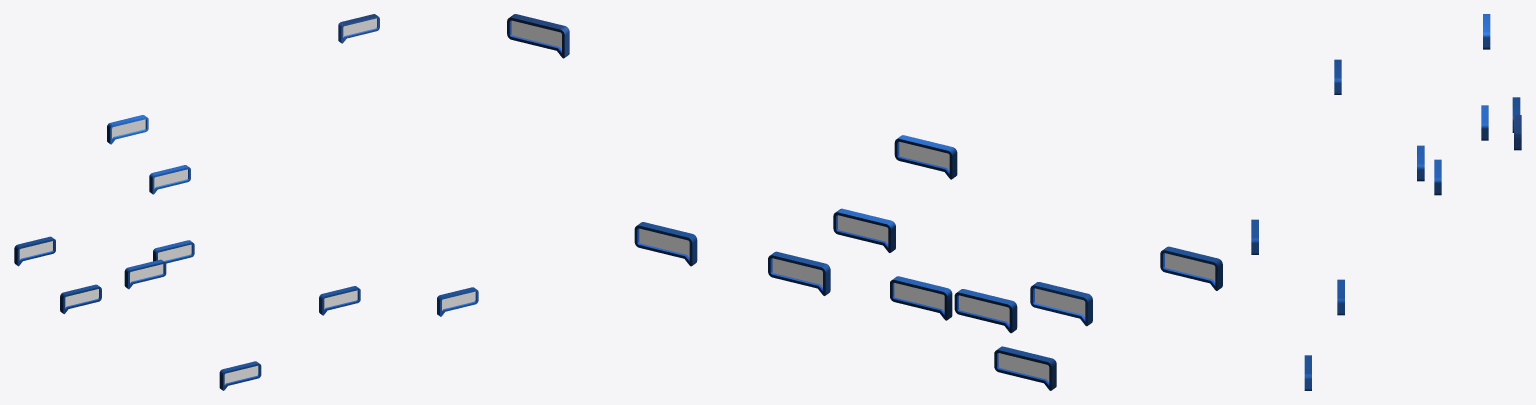
File: pop_up_languages.glb
3 views of the same model, side by side, from view 1: azimuth 30°, elevation 25°; view 2: azimuth 150°, elevation 25°; view 3: azimuth 270°, elevation 25° (orthographic). The views are drawn at different scales.
Visible parts, largest first — view 1: pop_up_contact_me, pop_up_running, pop_up_development, pop_up_languages, pop_up_games, pop_up_photography_left, pop_up_share_knowledge, pop_up_social_networks, pop_up_photography_right, pop_up_stereoscopy; view 2: pop_up_contact_me, pop_up_photography_right, pop_up_social_networks, pop_up_share_knowledge, pop_up_stereoscopy, pop_up_languages, pop_up_photography_left, pop_up_running, pop_up_development, pop_up_games; view 3: pop_up_share_knowledge, pop_up_contact_me, pop_up_stereoscopy, pop_up_running, pop_up_photography_right, pop_up_games, pop_up_development, pop_up_social_networks, pop_up_languages.
Boxes of the visible parts, x1,y1,x2,y2 form: pop_up_contact_me: (124, 259, 166, 289); pop_up_running: (219, 361, 261, 390); pop_up_development: (149, 165, 190, 194); pop_up_languages: (338, 14, 379, 43); pop_up_games: (60, 284, 101, 313); pop_up_photography_left: (14, 236, 55, 266); pop_up_share_knowledge: (319, 286, 360, 315); pop_up_social_networks: (107, 115, 148, 144); pop_up_photography_right: (437, 287, 478, 316); pop_up_stereoscopy: (153, 240, 194, 263); pop_up_contact_me: (954, 289, 1017, 333); pop_up_photography_right: (634, 222, 697, 266); pop_up_social_networks: (894, 135, 957, 179); pop_up_share_knowledge: (768, 251, 830, 295); pop_up_stereoscopy: (890, 276, 952, 320); pop_up_languages: (507, 14, 569, 58); pop_up_photography_left: (994, 346, 1056, 390); pop_up_running: (1030, 282, 1092, 326); pop_up_development: (833, 208, 895, 252); pop_up_games: (1160, 246, 1222, 290); pop_up_share_knowledge: (1337, 279, 1344, 315); pop_up_contact_me: (1417, 145, 1424, 181); pop_up_stereoscopy: (1434, 159, 1441, 195); pop_up_running: (1251, 219, 1258, 254); pop_up_photography_right: (1304, 355, 1311, 390); pop_up_games: (1334, 59, 1341, 94); pop_up_development: (1481, 105, 1488, 140); pop_up_social_networks: (1483, 14, 1490, 49); pop_up_languages: (1514, 115, 1521, 150).
Bounding box in the file's own units: 33.82 × 18.2 × 17.27.
10 materials, 10 textured.
